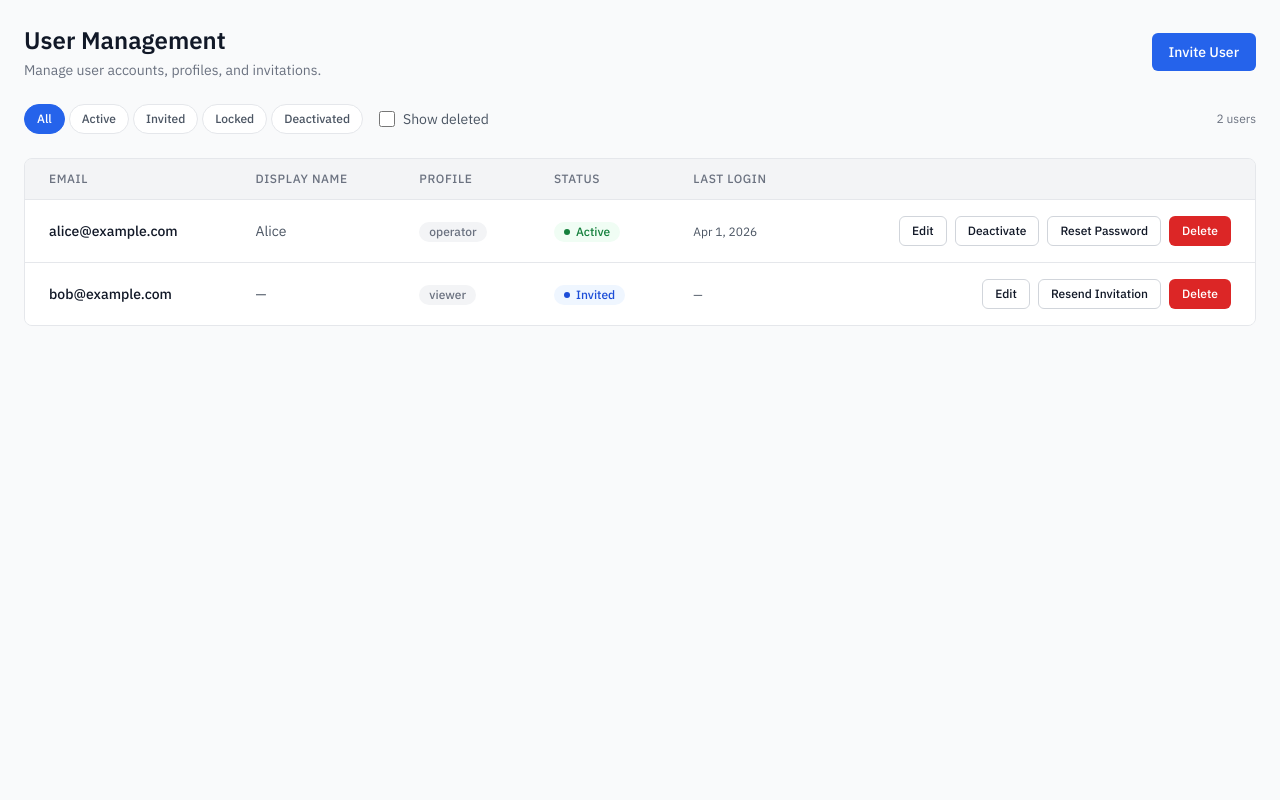
AdminUsersPage › opens invite modal when Invite User is clicked
Click the button "Invite User" at (1204, 52), box [1152,33,1256,71]
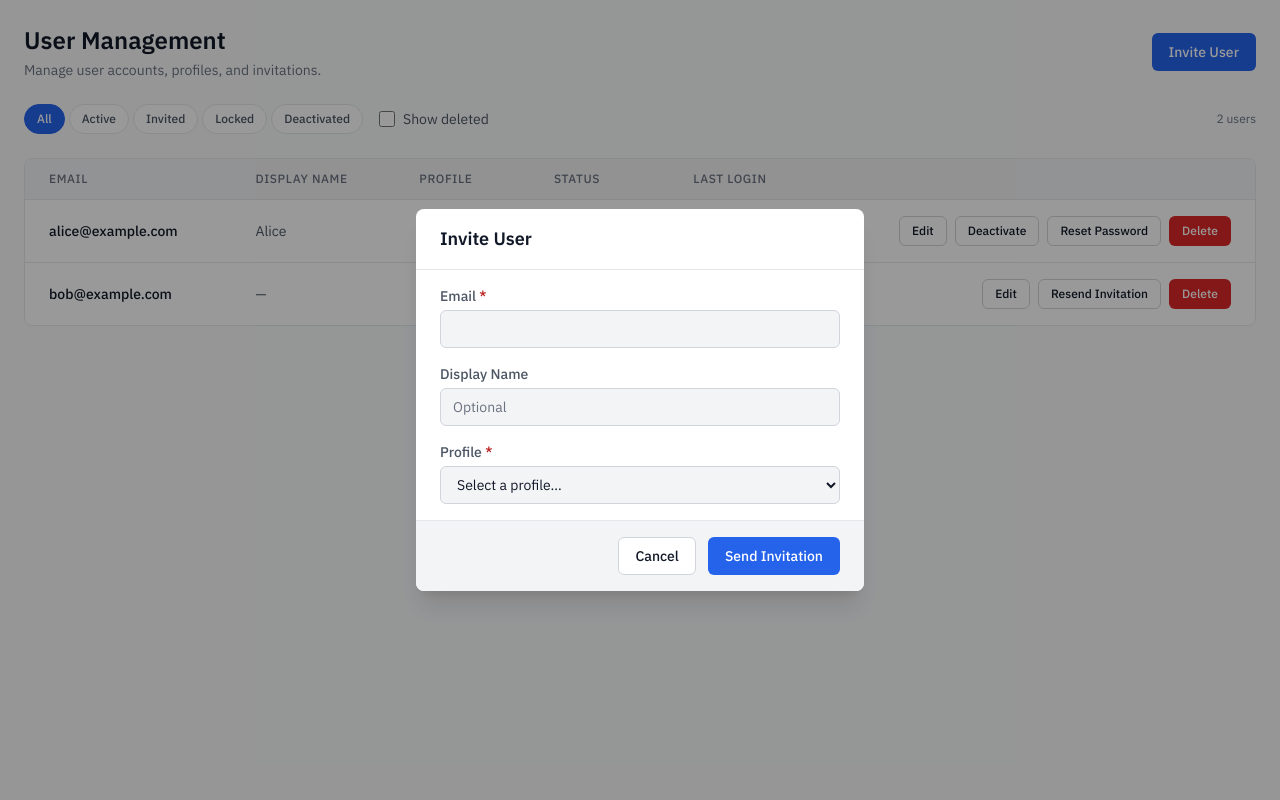
Expected: the heading "Invite User" is shown, [440,227,532,250]
Expected: the field labelled "Email *" is shown, [440,310,840,348]
Expected: the button "Send Invitation" is shown, [708,537,840,575]
